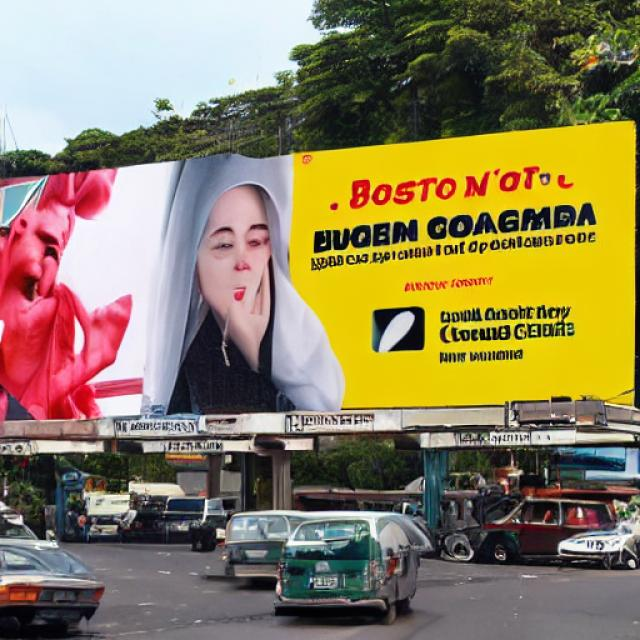Billboard: (0, 120, 640, 441)
